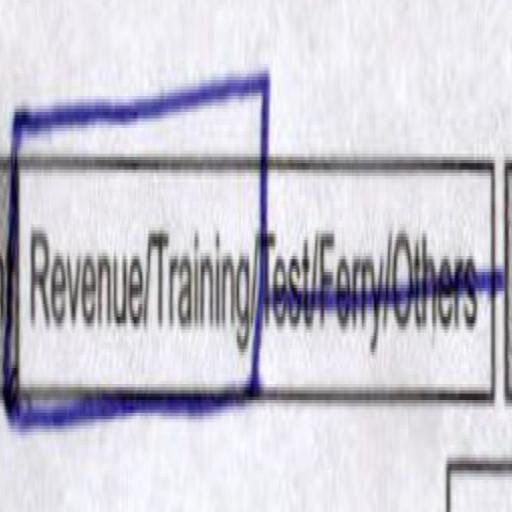check: (3, 46, 146, 463), (150, 22, 258, 464)
